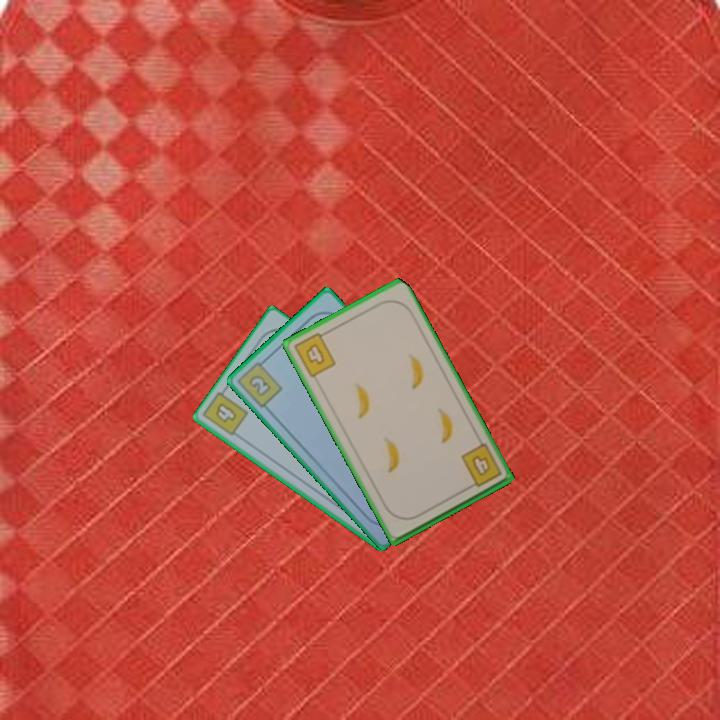2b: (234, 354, 285, 411)
4b: (290, 327, 338, 380), (457, 440, 504, 492), (211, 399, 240, 426)
